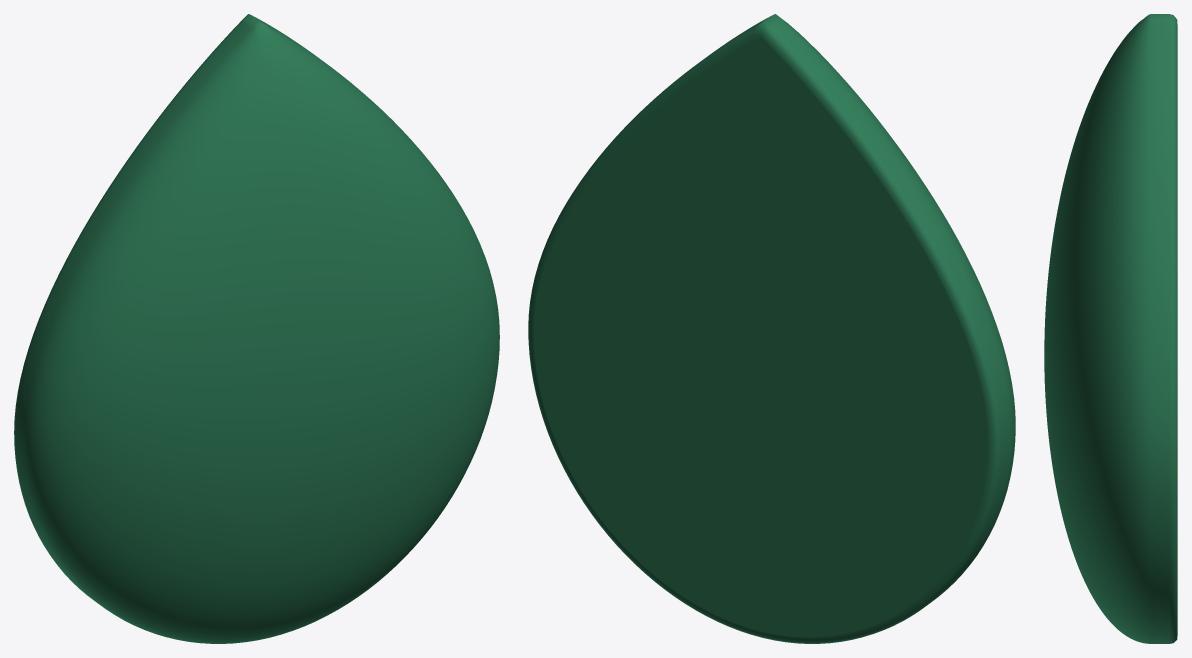
Rendered from pear.glb.
The picture shows the model from 3 angles, left to right: view 1: azimuth 30°, elevation 25°; view 2: azimuth 150°, elevation 25°; view 3: azimuth 270°, elevation 25°; orthographic projection.
Parts seen in each view (by area): view 1: Pear Cabochon 20x16x4mm; view 2: Pear Cabochon 20x16x4mm; view 3: Pear Cabochon 20x16x4mm.
Boxes of the visible parts, left/top/right/bottom form: Pear Cabochon 20x16x4mm: left=14, top=14, right=499, bottom=643; Pear Cabochon 20x16x4mm: left=528, top=14, right=1015, bottom=643; Pear Cabochon 20x16x4mm: left=1044, top=14, right=1177, bottom=643.
Bounding box in the file's own units: 0.016 × 0.02 × 0.00398.
